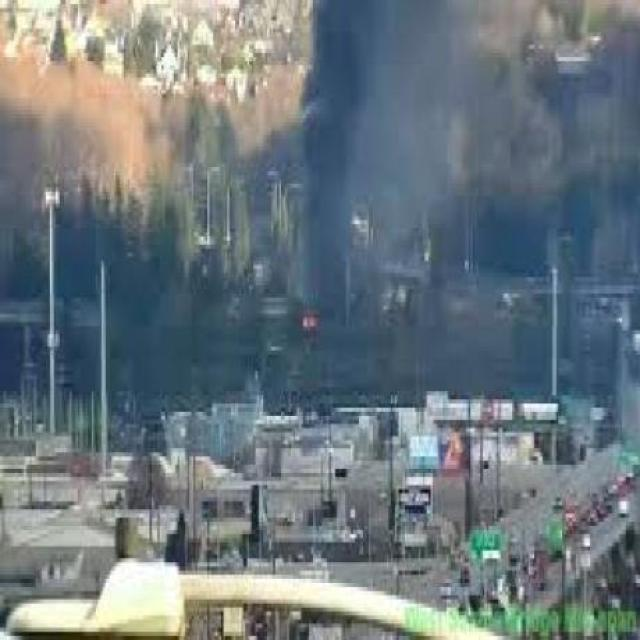Smoke: (306, 0, 640, 272)
